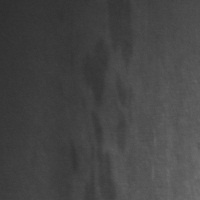inclusion: (80, 37, 116, 200), (106, 1, 140, 160)
